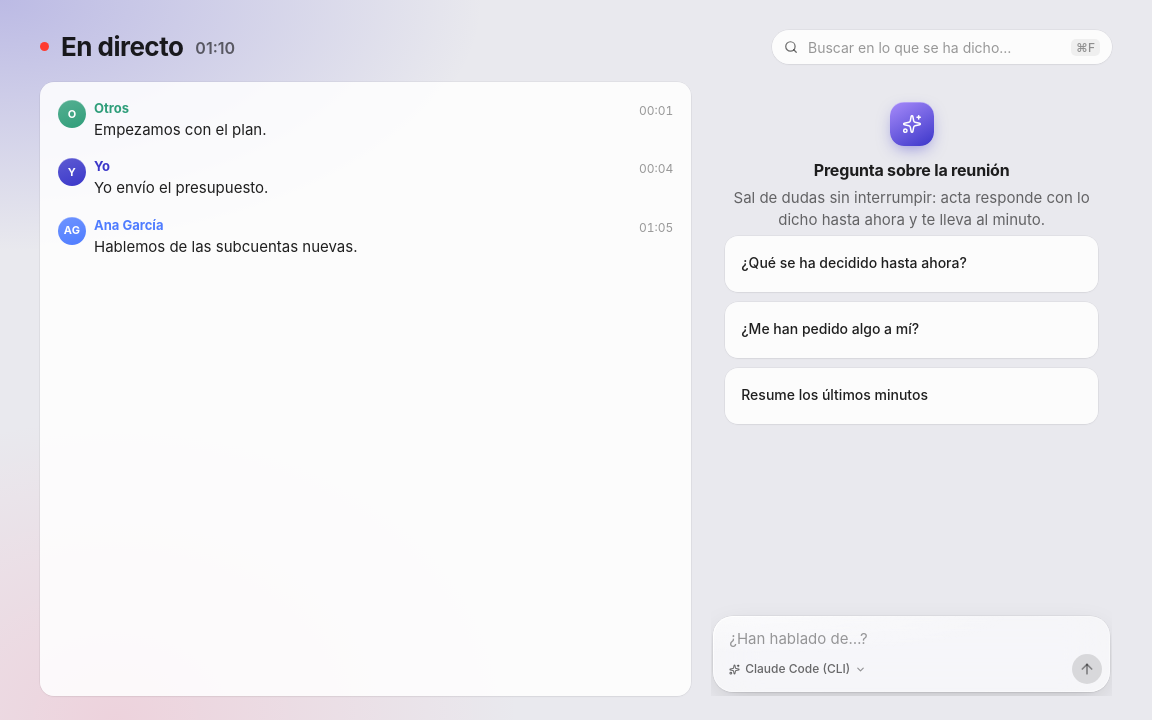
Scenario: vista en directo › busca en lo que se lleva dicho
The image size is (1152, 720).
Expected: the text "Empezamos con el plan." is shown, [94,120,266,139]
Type "subcuentas" into the search field named "Buscar en el directo".
click(934, 47); type("subcuentas")  # box [804,30,1065,64]
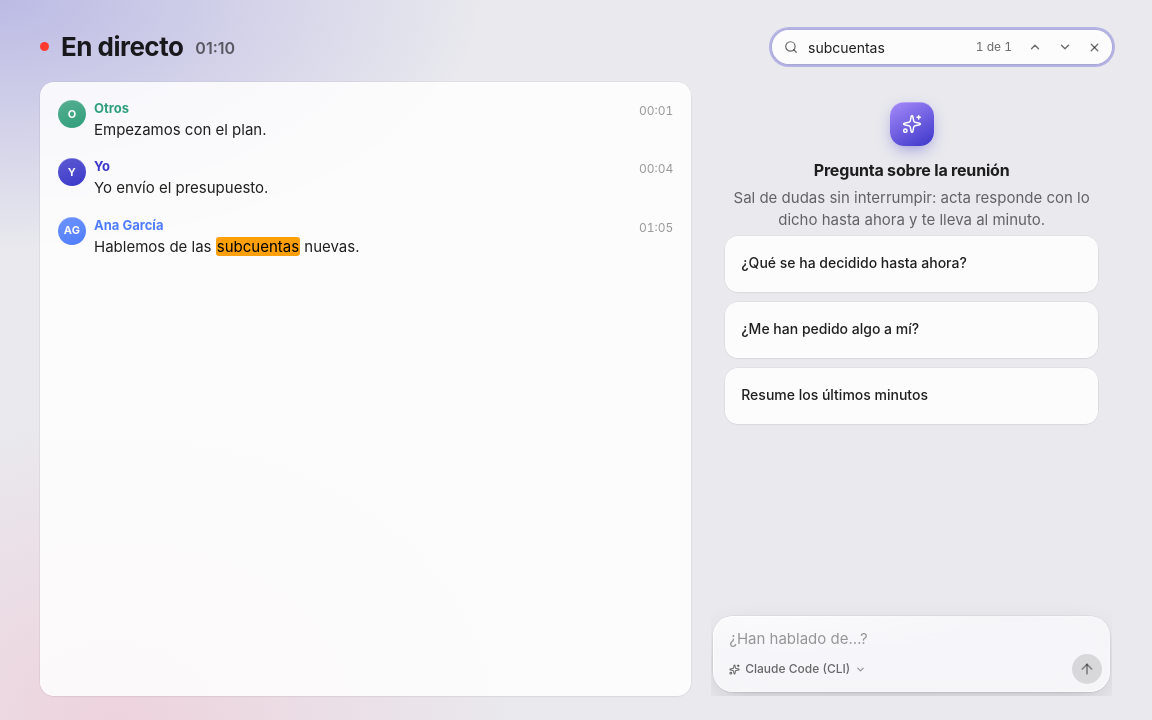
Expected: the text with class "hit" reads "subcuentas", [217,236,299,256]
Expected: the text "1 de 1" is shown, [976,39,1012,54]
